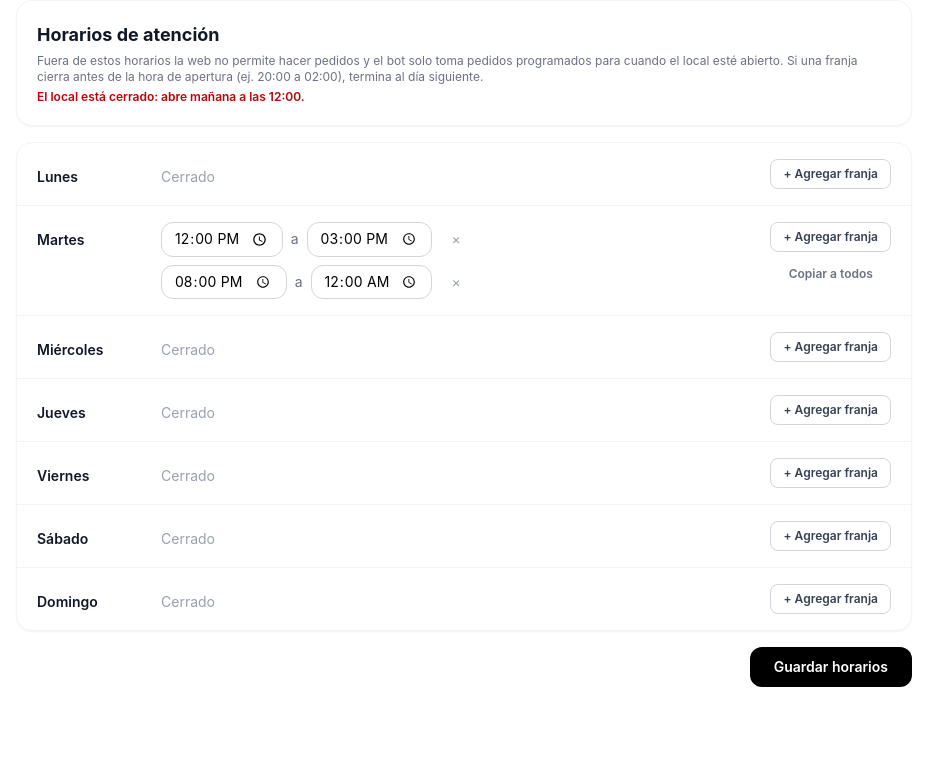
Test: HorariosView › valida antes de guardar
The width and height of the screenshot is (930, 761).
Expected: the element "Martes" is shown, [17,206,911,316]
Step 1. Replace the text in the time field named "Martes: cierre de la franja 1" with "12:00" → (369, 239), box [307,222,432,257]
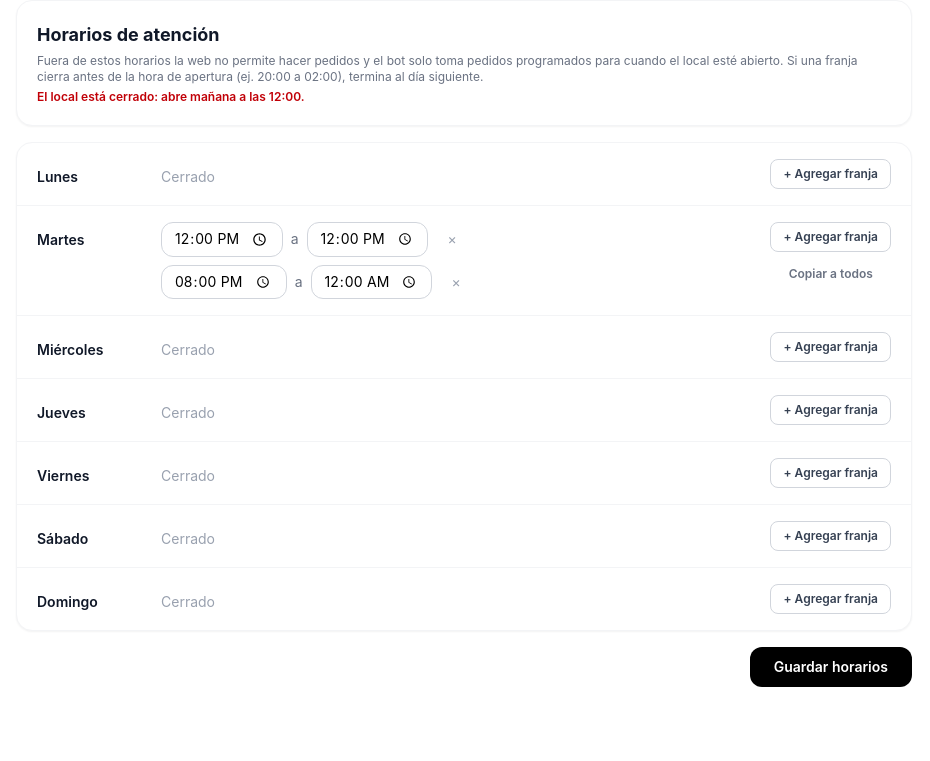
Step 2. Click the button "Guardar horarios" → (831, 667), box [750,647,912,687]
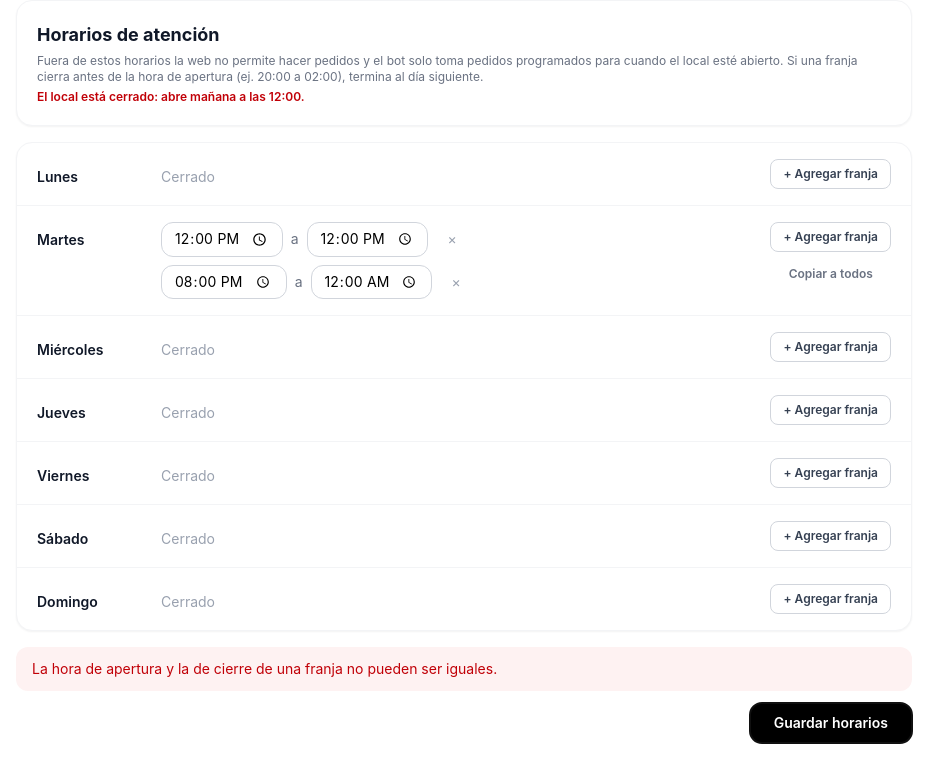
Expected: the message shows "no pueden ser iguales", [32,660,497,677]
Step 3. Click the button named "Quitar la franja 2 del martes" → (456, 282), box [440,266,472,298]
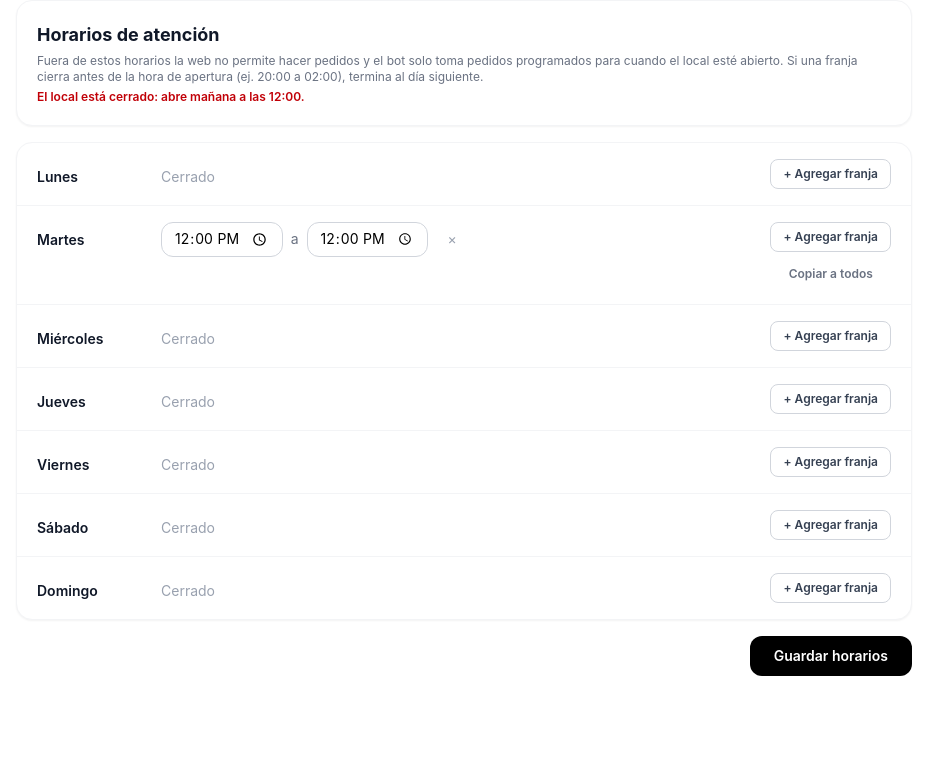
Step 4. Click the button named "Quitar la franja 1 del martes" → (452, 239), box [436,223,468,255]
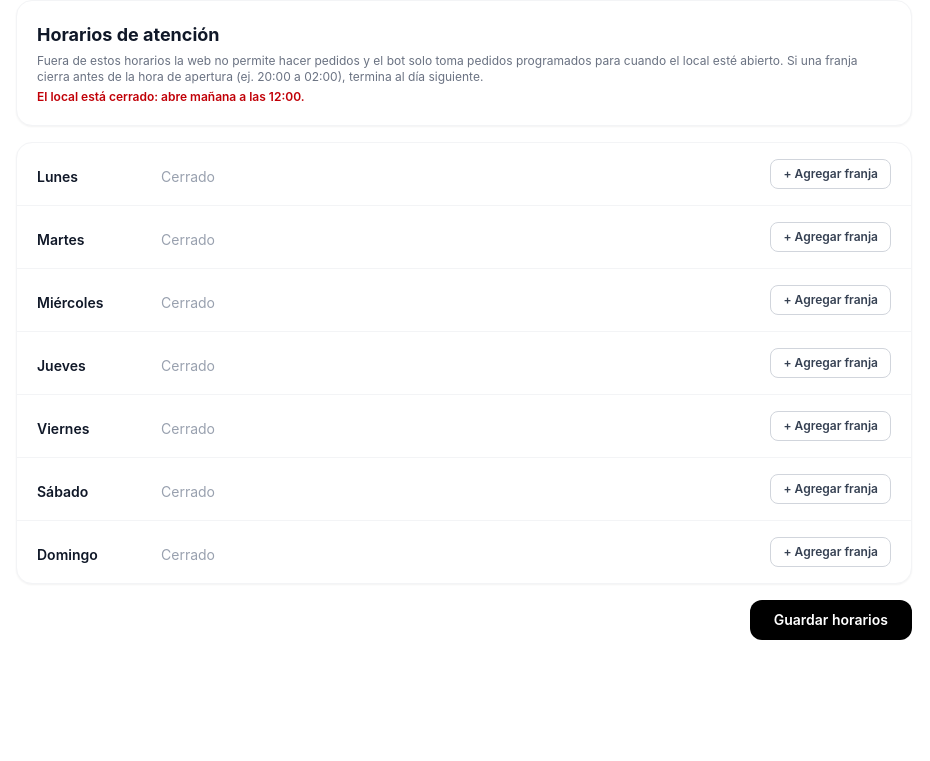
Step 5. Click the button "Guardar horarios" → (831, 620), box [750,600,912,640]
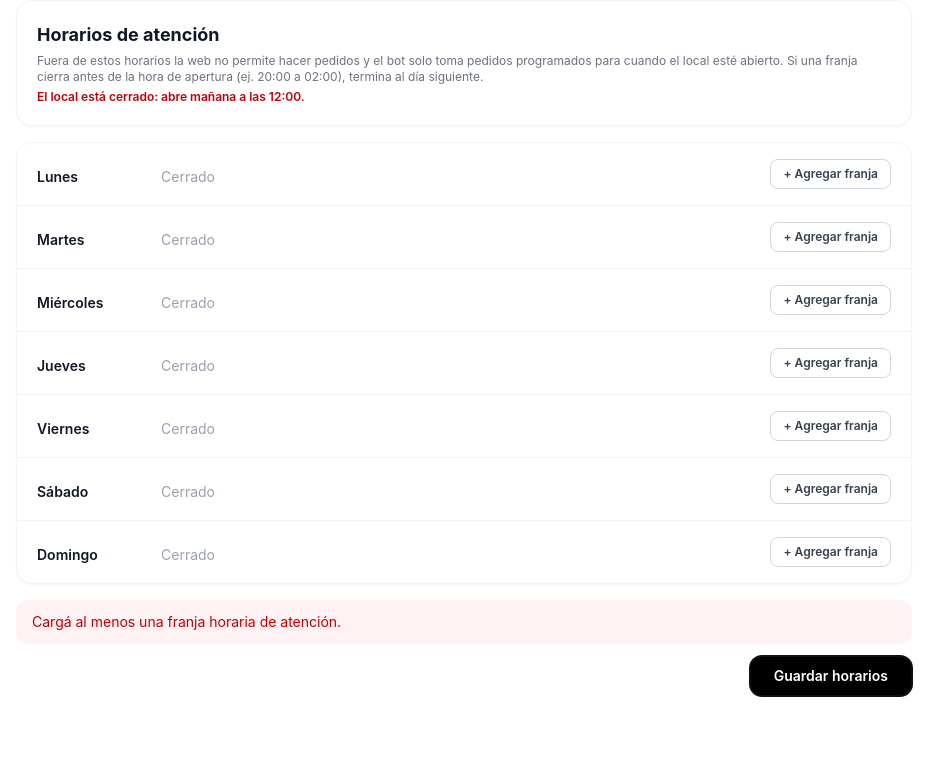
Expected: the message shows "Cargá al menos una franja horaria", [32,613,341,630]
